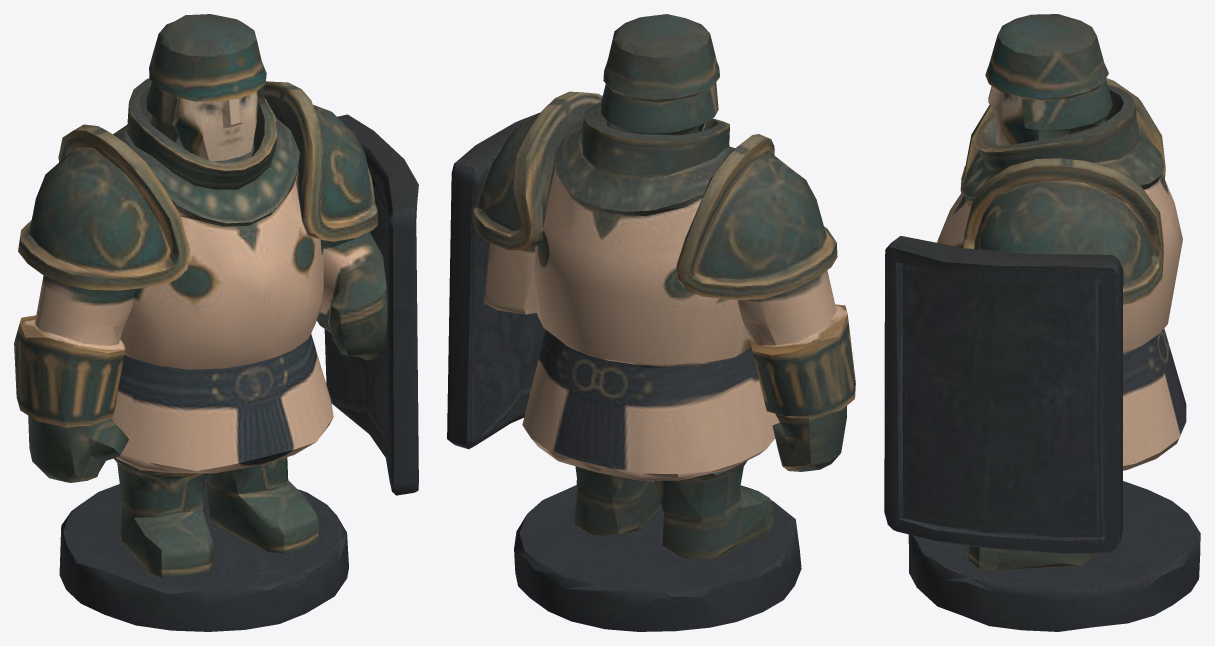
The model's file is unit-guardian-map.glb.
3 views of the same model, side by side, from view 1: azimuth 30°, elevation 25°; view 2: azimuth 150°, elevation 25°; view 3: azimuth 270°, elevation 25° (orthographic).
Size of the model in its own units: 0.667 by 0.9517 by 0.5005.
1 material, 1 textured.
